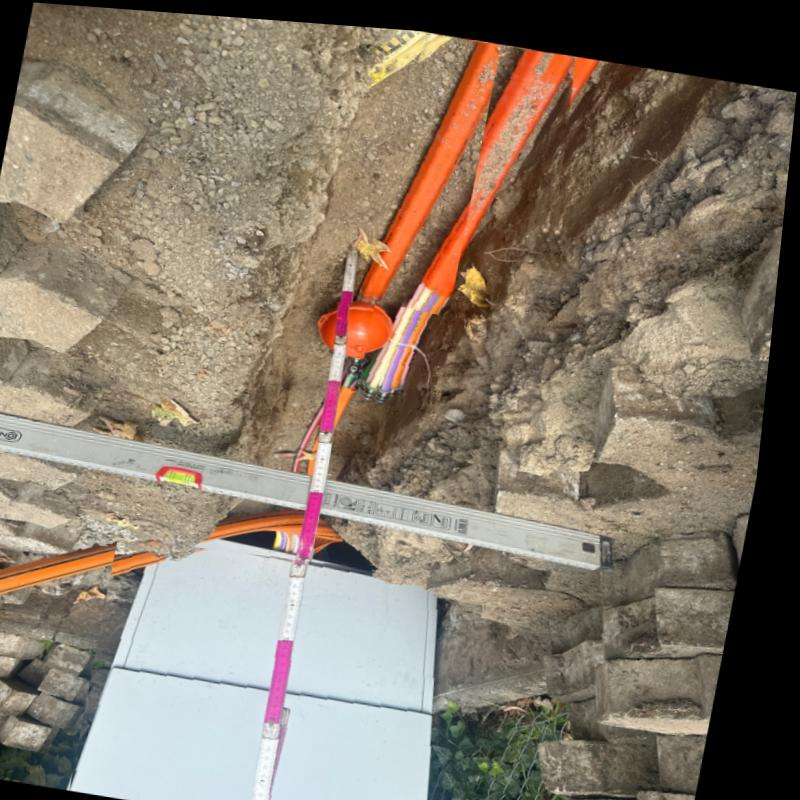Kugelmarker: (324, 298, 401, 352)
NT-Gehause: (87, 543, 448, 800)
Orang-Speednetrohrchen: (366, 41, 581, 394), (366, 34, 501, 296)
